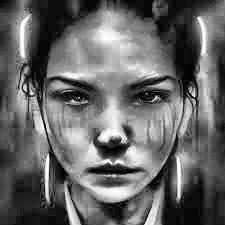sad: (20, 0, 225, 225)
